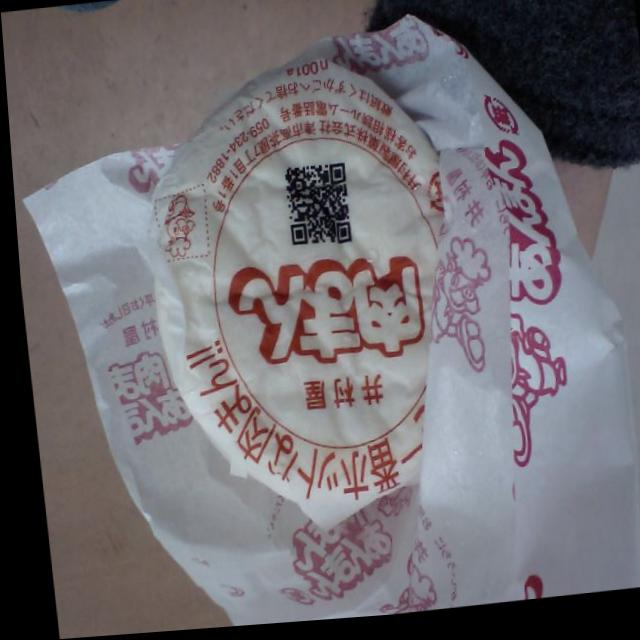qrcode: (281, 166, 349, 252)
